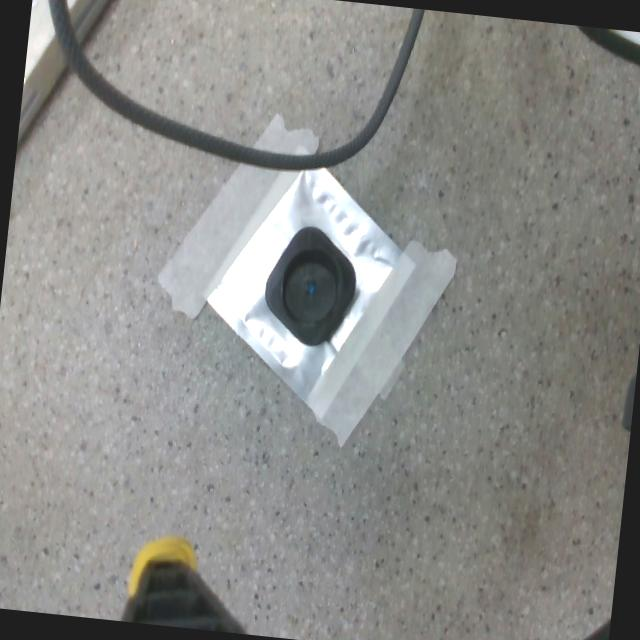cell: (258, 222, 360, 348)
